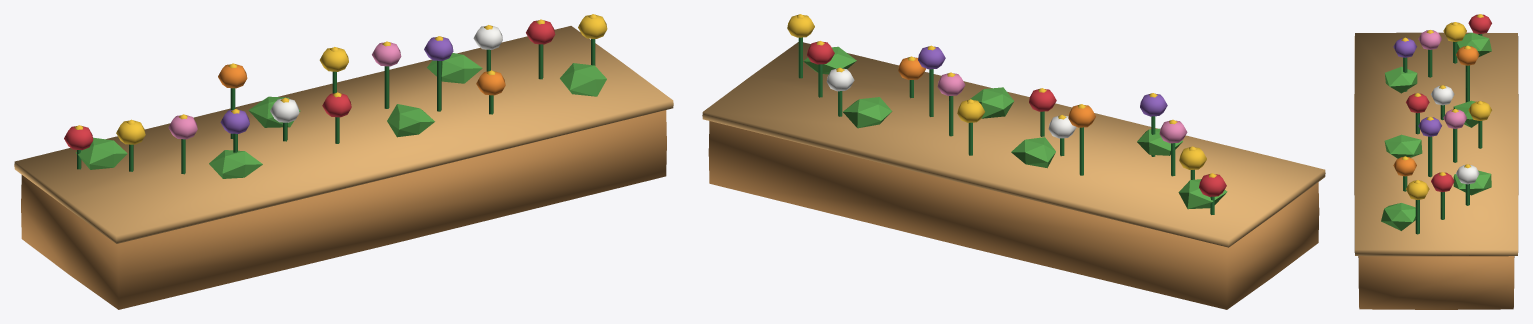
The model's file is flower_bed.glb.
3 views of the same model, side by side, from view 1: azimuth 30°, elevation 25°; view 2: azimuth 150°, elevation 25°; view 3: azimuth 270°, elevation 25° (orthographic). The views are drawn at different scales.
Parts seen in each view (by area): view 1: root; view 2: root; view 3: root.
Boxes of the visible parts, x1,y1,x2,y2 form: root: [14, 14, 673, 309]; root: [702, 14, 1325, 309]; root: [1354, 14, 1518, 309].
Bounding box in the file's own units: 2.94 × 0.775 × 0.94.
